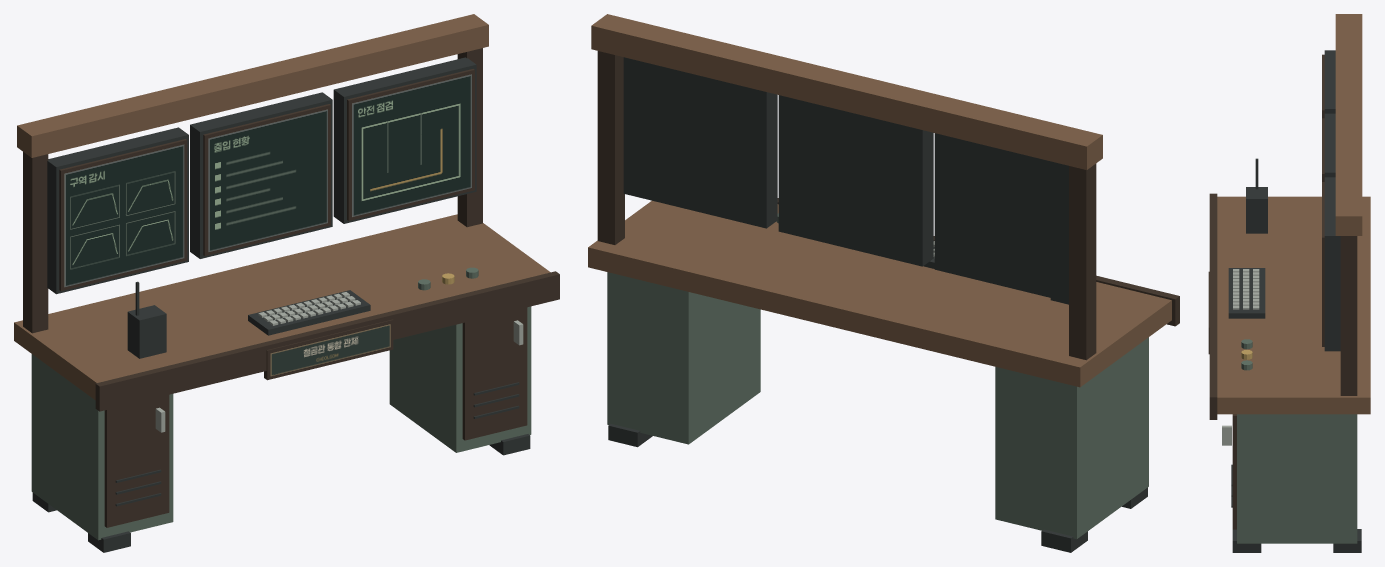
File: 01_Security_Console.fbx
3 renders of one model, left to right at view 1: azimuth 30°, elevation 25°; view 2: azimuth 150°, elevation 25°; view 3: azimuth 270°, elevation 25°, orthographic. The views are drawn at different scales.
Visible parts, largest first — view 1: Structure; view 2: Structure; view 3: Structure.
Part boxes in pixels (box(x1,y1,x2,y2)): Structure: box(14, 14, 559, 552); Structure: box(588, 14, 1179, 552); Structure: box(1208, 14, 1370, 552).
Size of the model in its own units: 288 by 227 by 97.2.
Materials: 2 (2 with a texture image).
